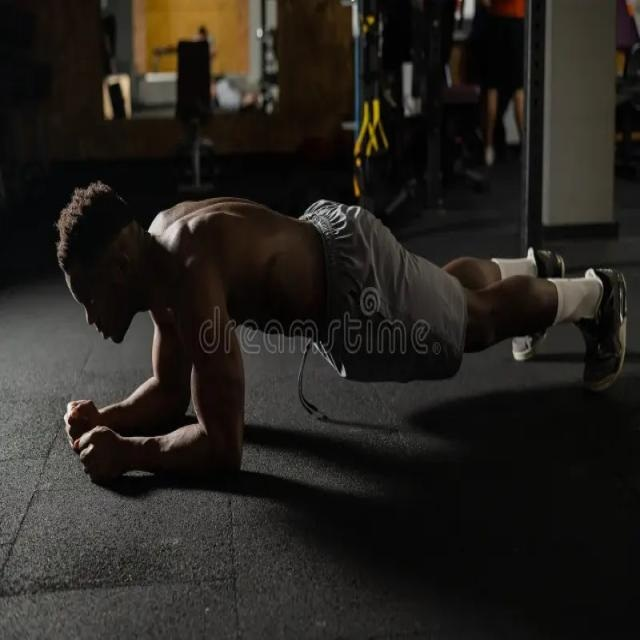plank: (48, 163, 635, 491)
